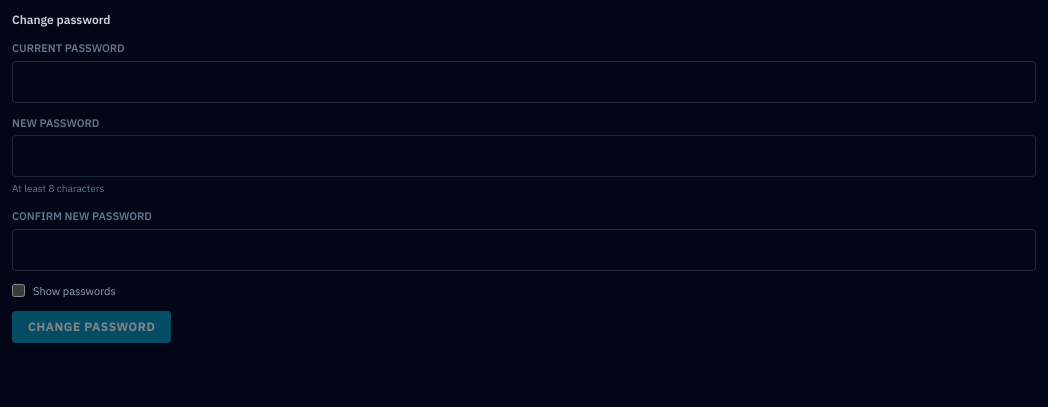
Test: ChangePasswordForm › shows why a change was refused and keeps what was typed
Step 1. Type "wrong-password" into the password field labelled "Current password" → {"x": 524, "y": 82}, box 12,60 -> 1036,102
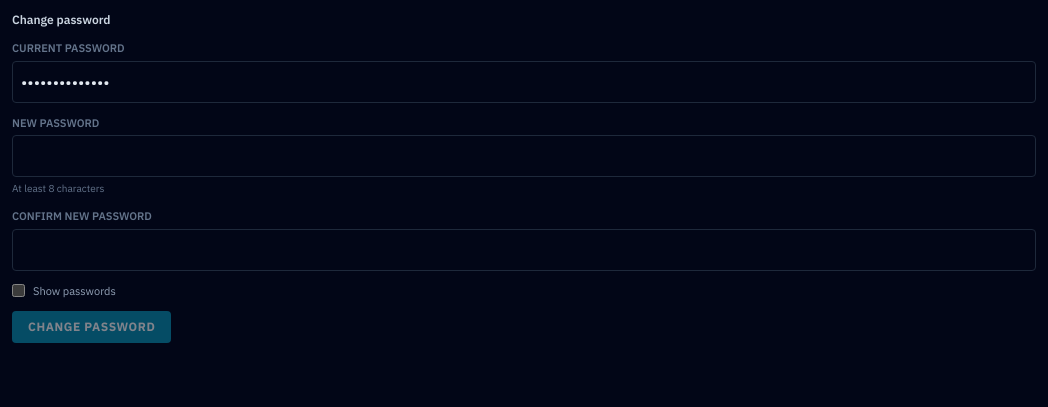
Step 2. Type "replacement-password" into the password field labelled "New password" → {"x": 524, "y": 156}, box 12,135 -> 1036,177
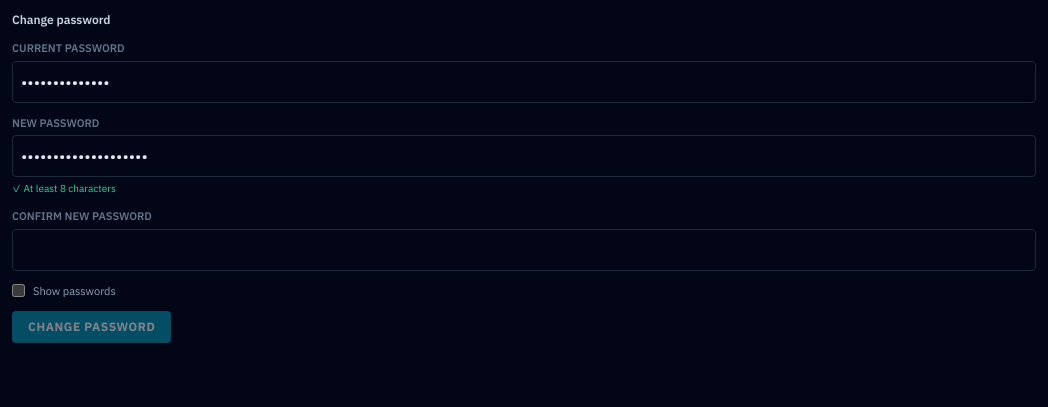
Step 3. Type "replacement-password" into the password field labelled "Confirm new password" → {"x": 524, "y": 250}, box 12,228 -> 1036,270
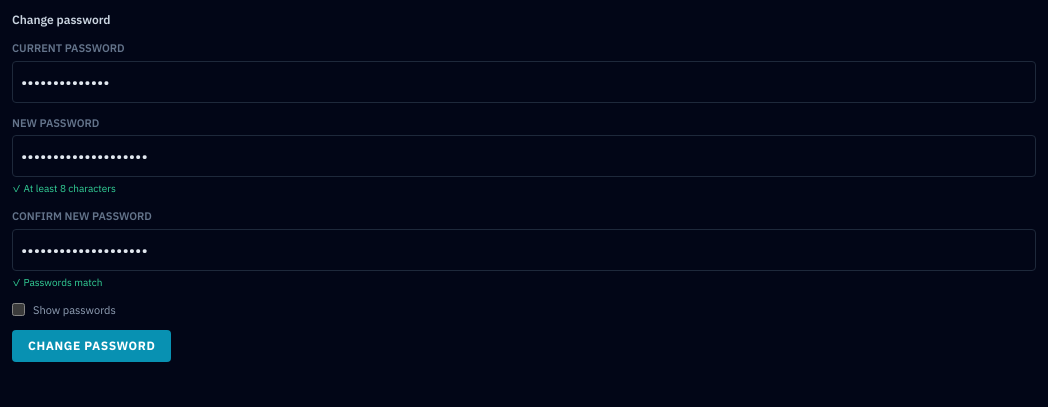
Step 4. Click the button "Change password" → {"x": 92, "y": 346}, box 12,330 -> 171,362
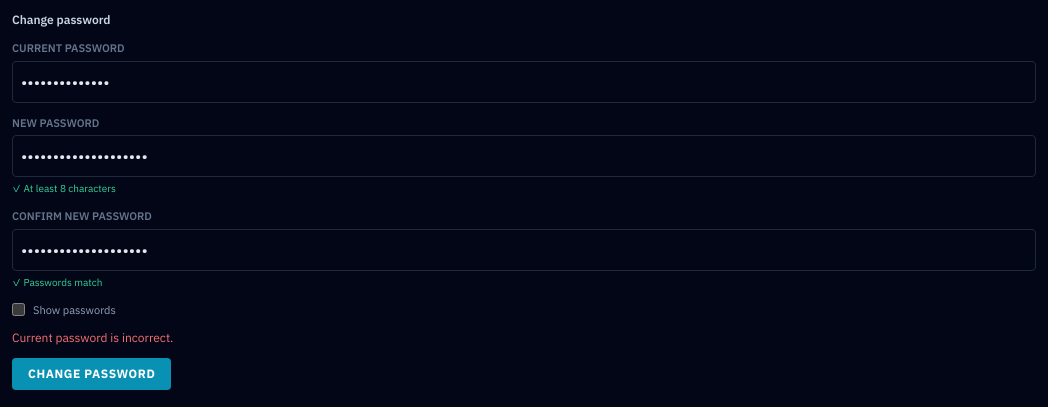
Now the message reads "Current password is incorrect.", box 12,330 -> 173,345
